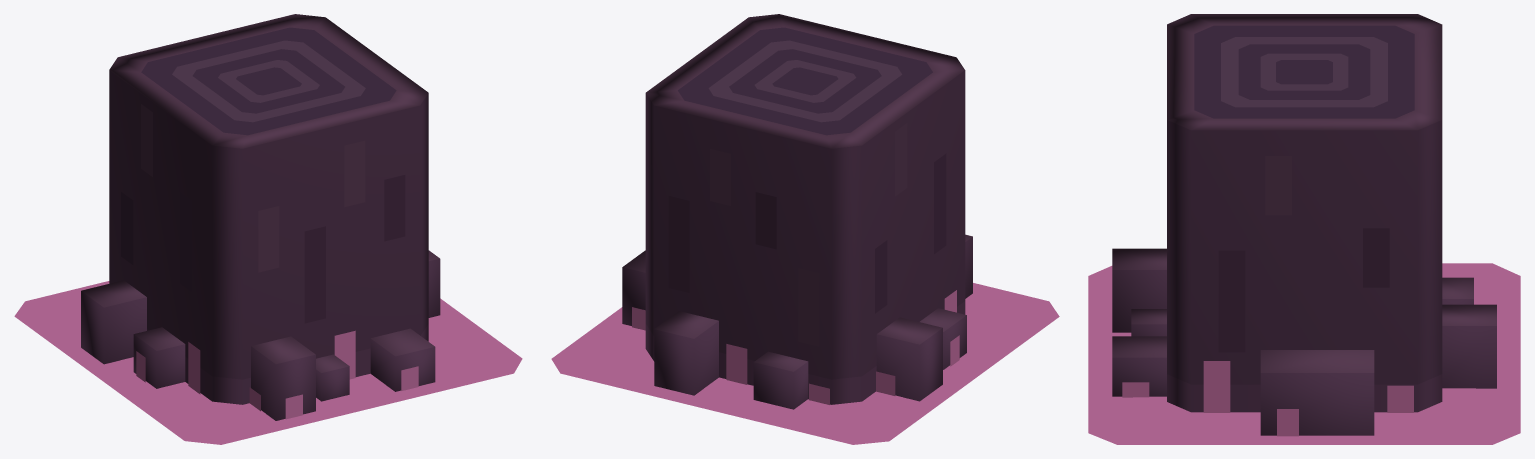
The model's file is B_forest2_rock01.fbx.
The picture shows the model from 3 angles, left to right: view 1: azimuth 30°, elevation 25°; view 2: azimuth 150°, elevation 25°; view 3: azimuth 270°, elevation 25°; orthographic projection. The views are drawn at different scales.
Visible parts, largest first — view 1: model 1, model; view 2: model 1, model; view 3: model 1, model.
Boxes of the visible parts, box(x1,y1,x2,y2) form: model 1: box(14, 14, 522, 444); model: box(67, 307, 470, 422); model 1: box(551, 14, 1059, 444); model: box(604, 300, 1006, 422); model 1: box(1088, 14, 1520, 444); model: box(1133, 291, 1475, 425).
Bounding box in the file's own units: 3.11 × 2.27 × 3.12.
